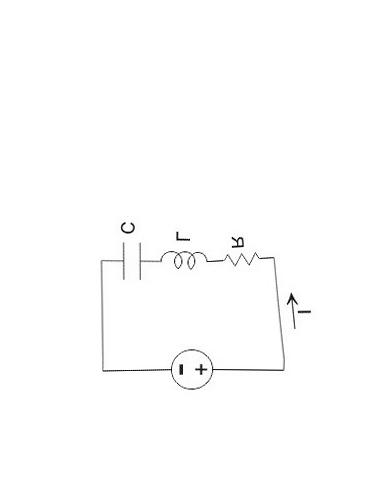Battery: (157, 338, 220, 401)
